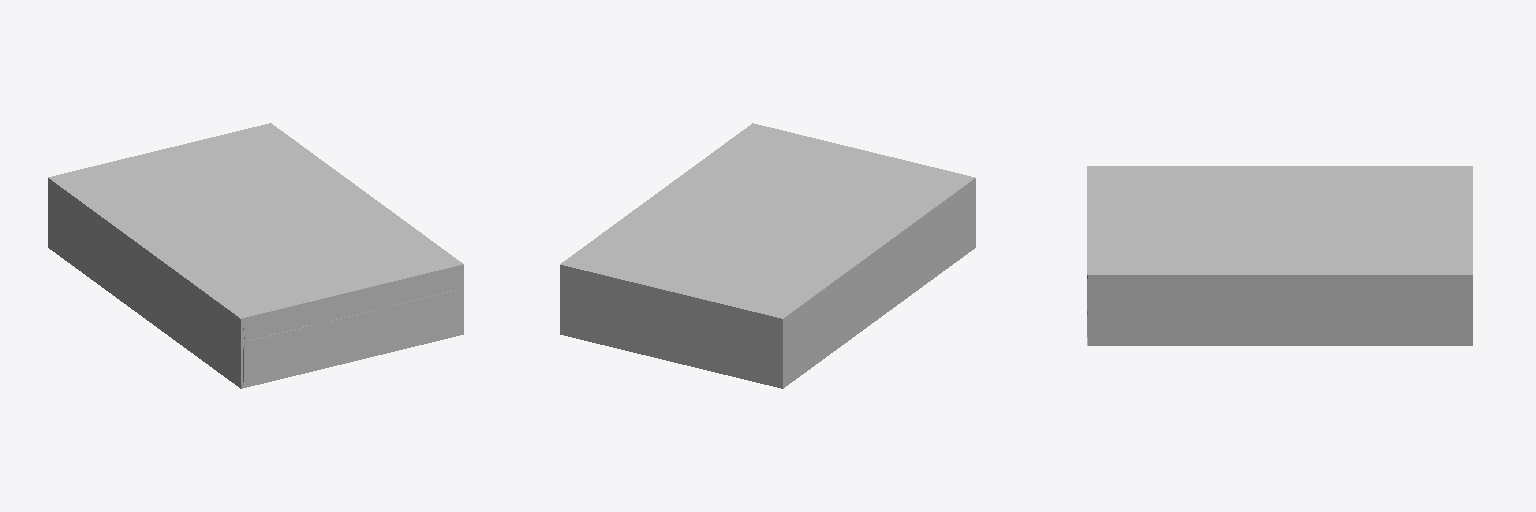
The model's file is cereal.obj.
3 views of the same model, side by side, from view 1: azimuth 30°, elevation 25°; view 2: azimuth 150°, elevation 25°; view 3: azimuth 270°, elevation 25° (orthographic).
Visible parts, largest first — view 1: Cereal; view 2: Cereal; view 3: Cereal.
Part boxes in pixels (x1,y1,x2,y2): Cereal: (48, 123, 463, 388); Cereal: (560, 123, 975, 388); Cereal: (1087, 166, 1472, 345).
Bounding box in the file's own units: 0.1 × 0.03 × 0.15.